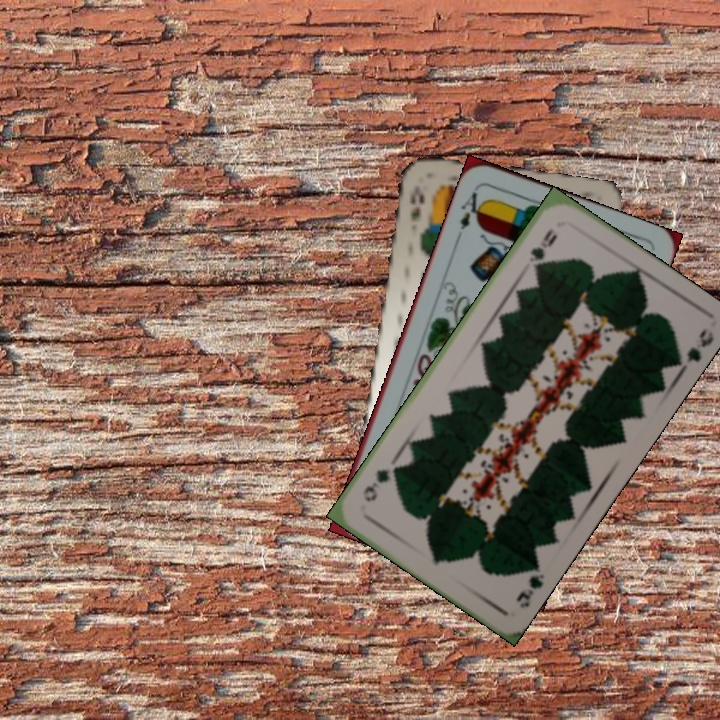EA: (453, 187, 488, 241)
EK: (406, 181, 428, 224)
G9: (512, 558, 548, 611), (524, 224, 560, 273)
